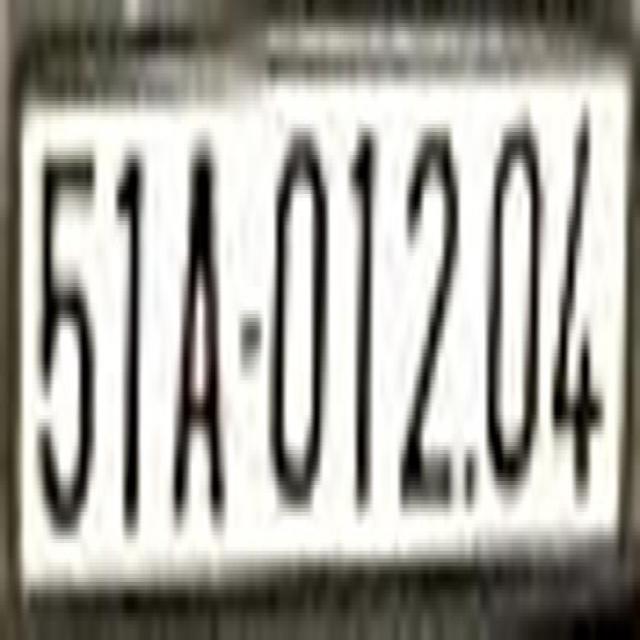0: (273, 132, 324, 504), (489, 128, 538, 485)
1: (114, 148, 142, 528), (349, 128, 376, 508)
2: (401, 120, 456, 504)
4: (558, 97, 601, 500)
5: (38, 155, 96, 520)
A: (174, 159, 228, 516)
